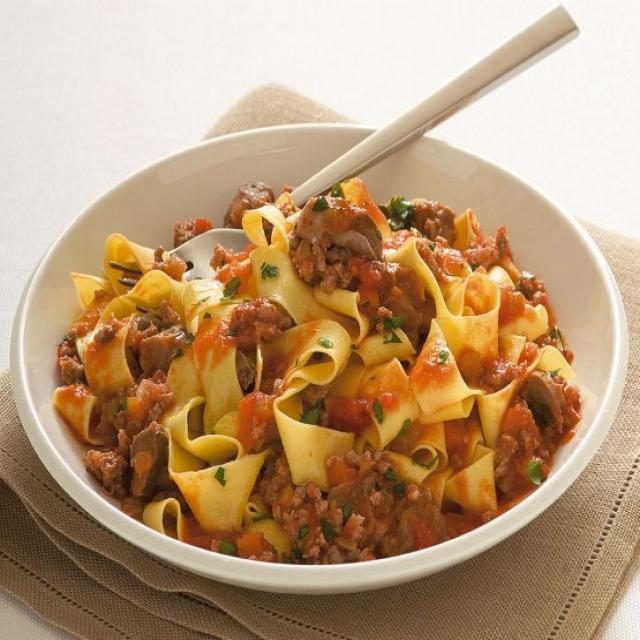Pasta al ragu: (45, 145, 627, 573)
